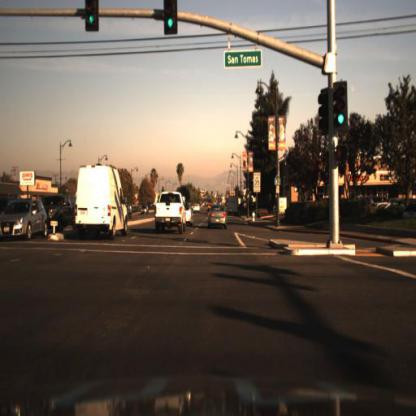car: (62, 158, 132, 254), (1, 195, 50, 249), (155, 188, 189, 237), (41, 195, 77, 231), (207, 197, 230, 236), (226, 193, 242, 217), (138, 203, 150, 219)
trafficLight-Green: (338, 85, 350, 128), (331, 108, 349, 134)
truck: (72, 163, 136, 247)
